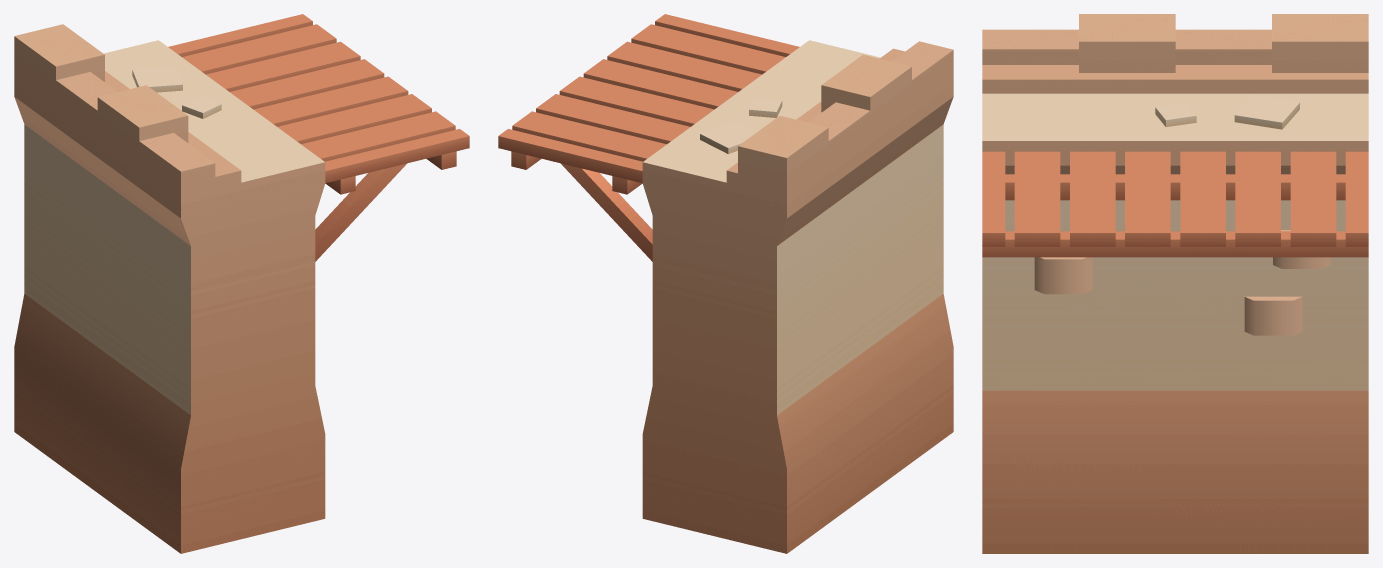
File: wood_wall.glb
3 views of the same model, side by side, from view 1: azimuth 30°, elevation 25°; view 2: azimuth 150°, elevation 25°; view 3: azimuth 270°, elevation 25° (orthographic). The views are drawn at different scales.
Visible parts, largest first — view 1: wall-narrow-wood; view 2: wall-narrow-wood; view 3: wall-narrow-wood.
Boxes of the visible parts, x1,y1,x2,y2 form: wall-narrow-wood: (14, 14, 469, 553); wall-narrow-wood: (498, 14, 953, 553); wall-narrow-wood: (982, 14, 1368, 553).
Size of the model in its own units: 1 by 1.31 by 1.
1 material, 1 textured.
